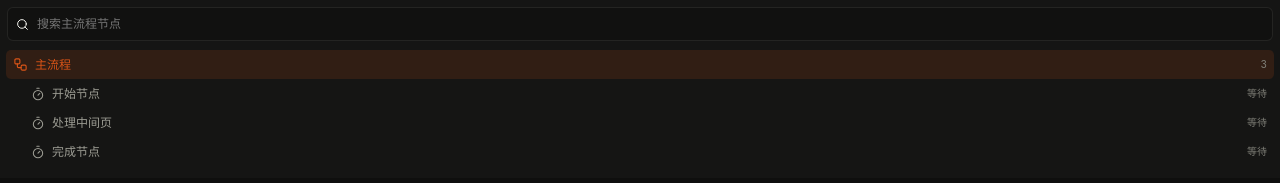
Test case: ProjectExplorerPanel 主流程大纲 › 搜索只保留名称或类型匹配的节点
This screenshot has width=1280, height=183.
Type "完成" into the field with placeholder "搜索主流程节点" at {"x": 650, "y": 24}, box [35,14,1264,34]
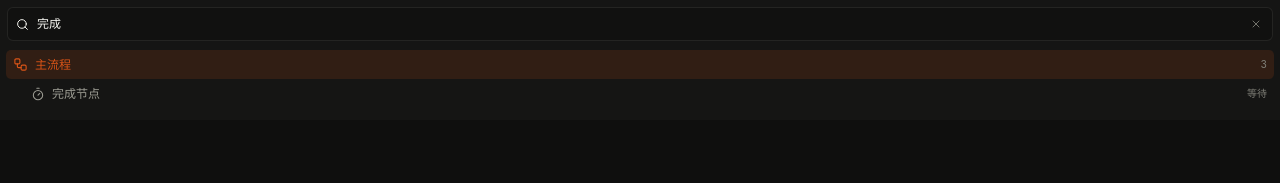
Expected: the button with class "node-row" shows "完成节点", [6,79,1274,108]
Now the number of buttons with class "node-row" is 1, box [6,79,1274,108]
Replace the text in the field with "等待" at {"x": 638, "y": 24}, box [35,14,1242,34]
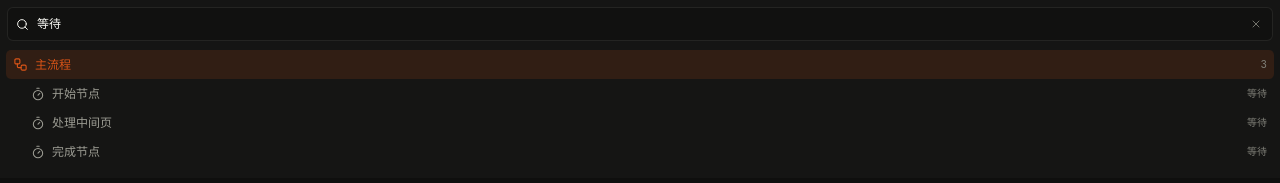
Now the number of buttons with class "node-row" is 3, box [6,79,1274,108]; [6,108,1274,137]; [6,137,1274,166]
